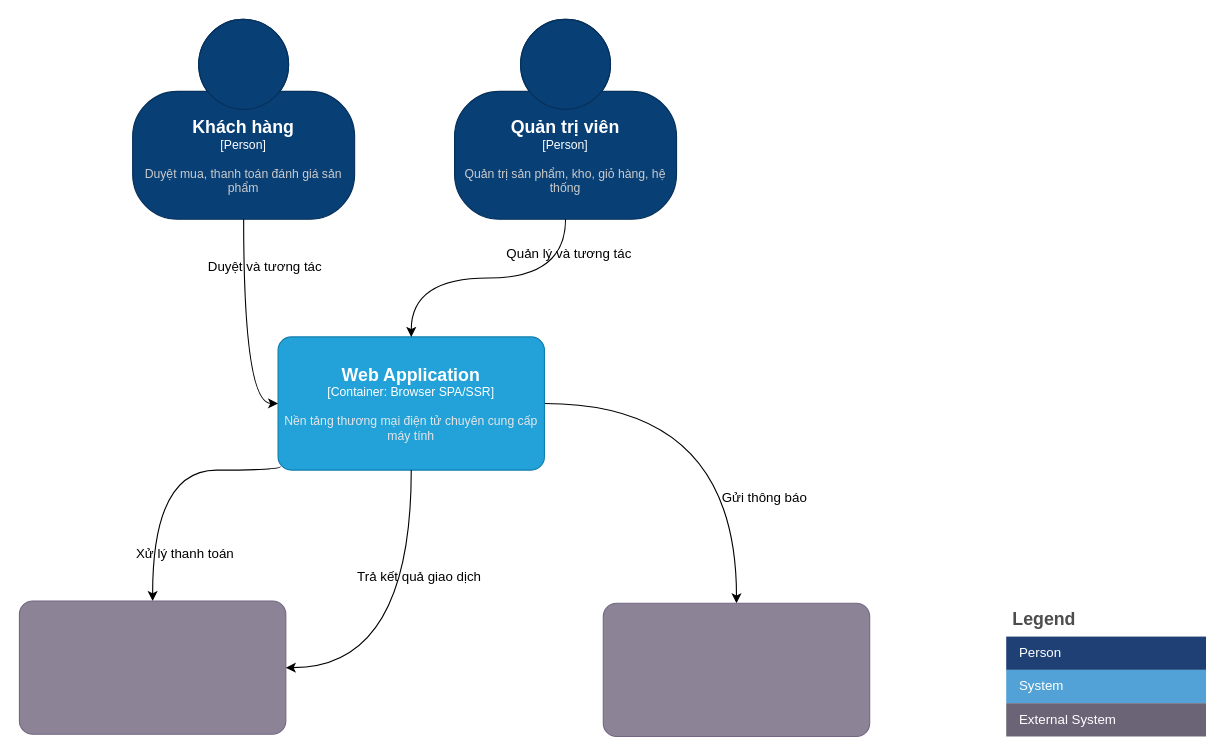
Some shapes in this 1225 by 756 pixel diagram are drawn without their labels. Each missing label, with the centre of its shape:
"Email Service [] Gửi email xác nhận/thất bại" goes at point 736,669.
"Payment Gateway [] Xử lý giao dịch thẻ/ví/COD" goes at point 152,667.
